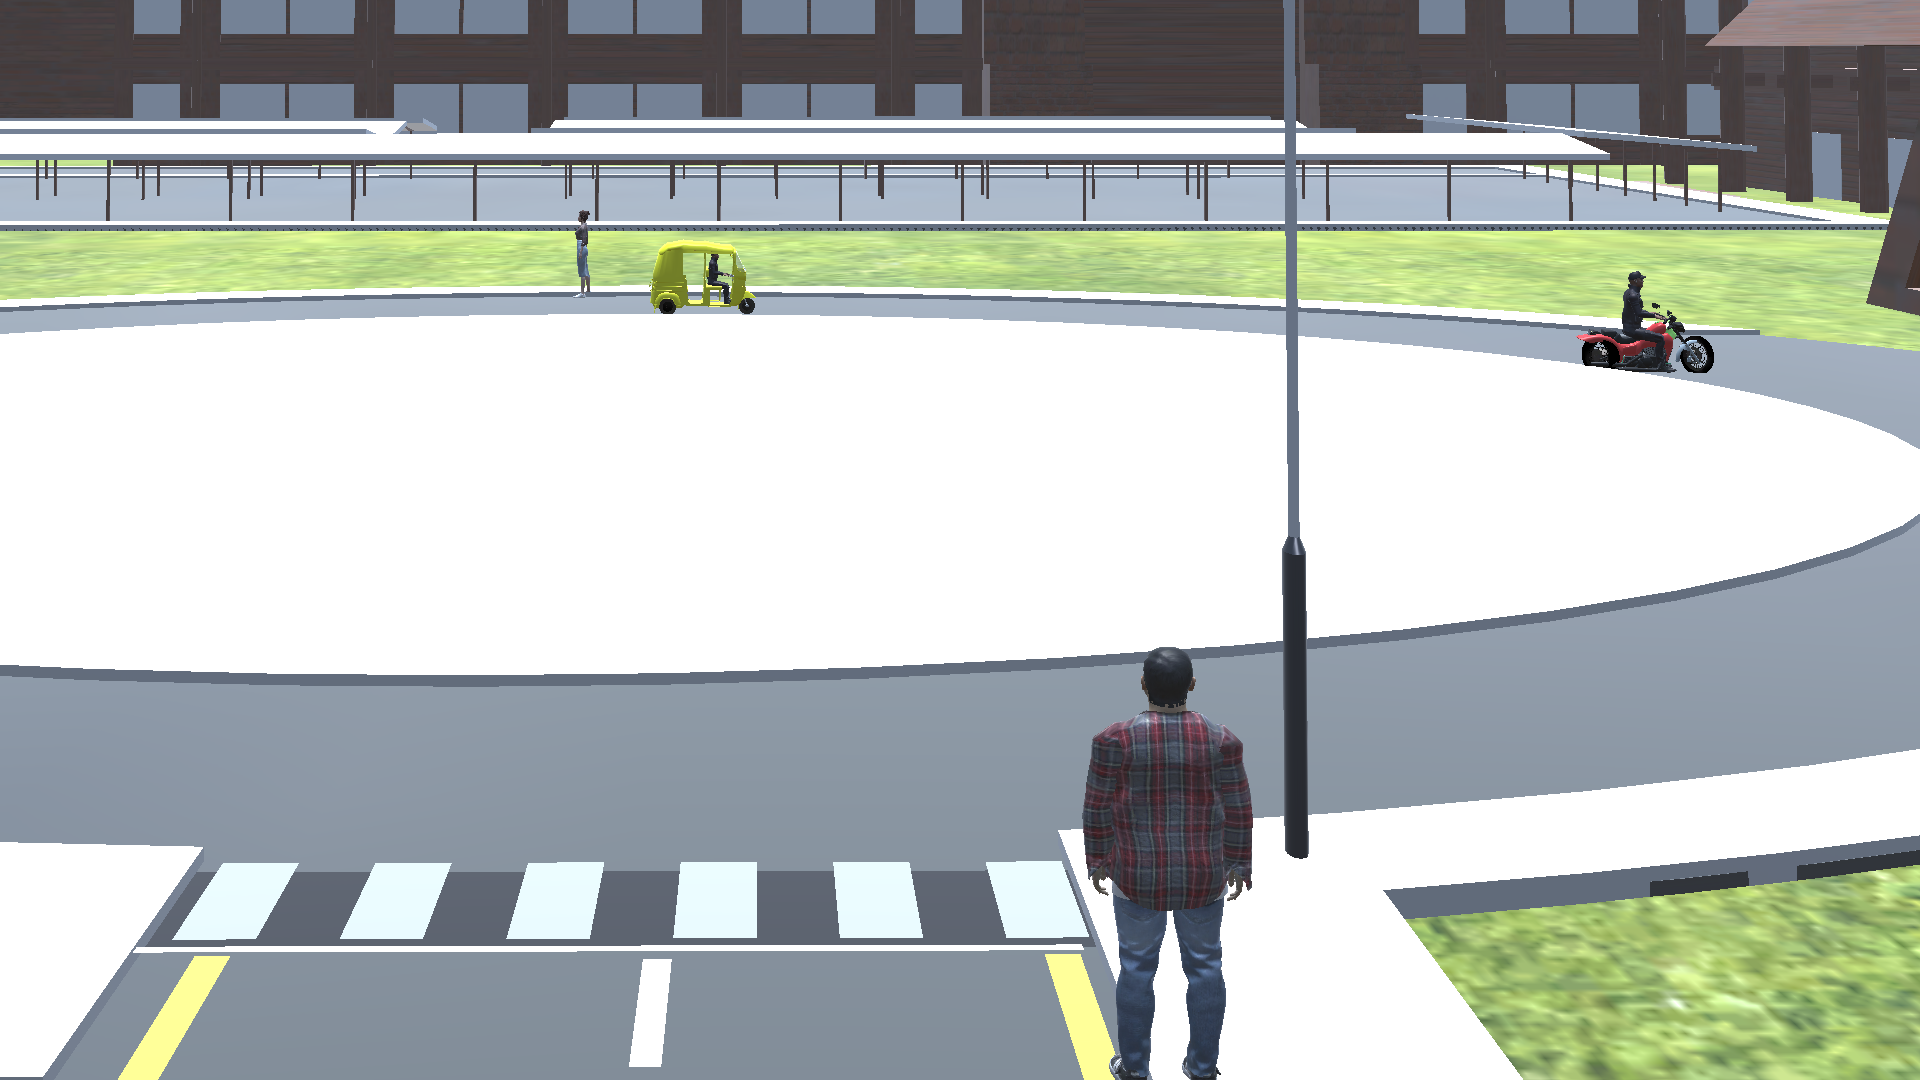pedestrian: (1068, 643, 1257, 1073), (568, 206, 598, 306)
